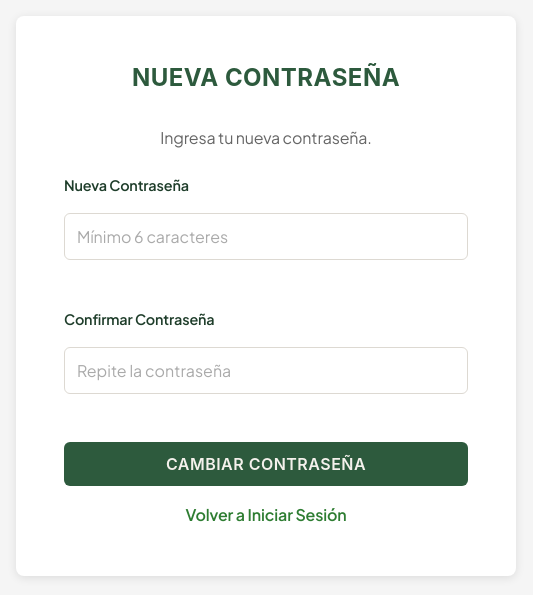
it: ResetPasswordPage › shows success state after reset
In the password field with placeholder "Mínimo 6 caracteres": (266, 237) [64,213,468,260], type "newpass123"
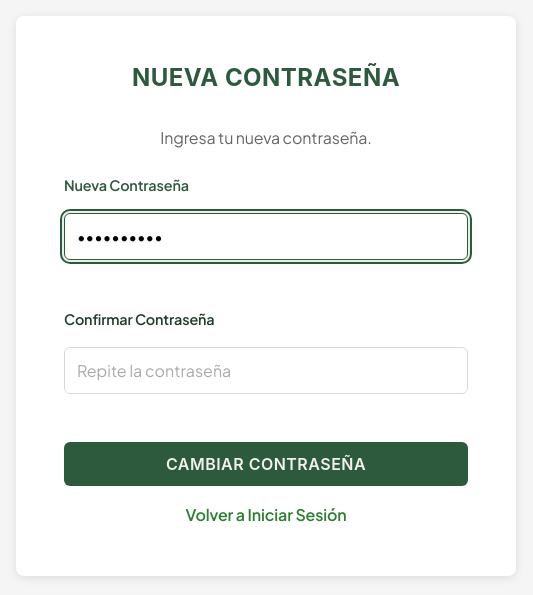
In the password field with placeholder "Repite la contraseña": (266, 371) [64,347,468,394], type "newpass123"
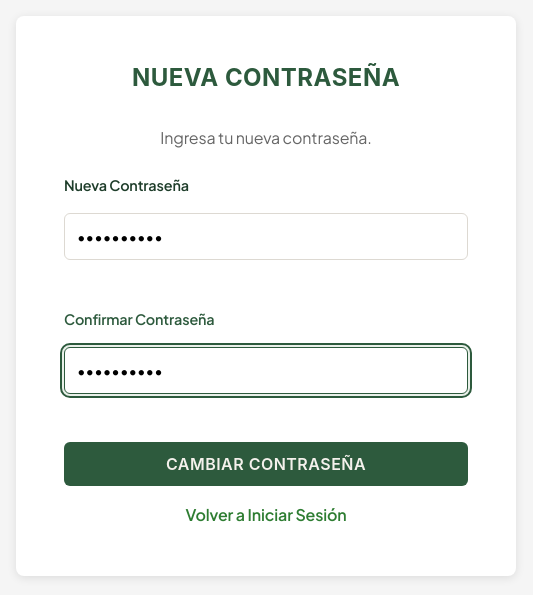
Click the button "Cambiar Contraseña": click(266, 464) [64,442,468,486]
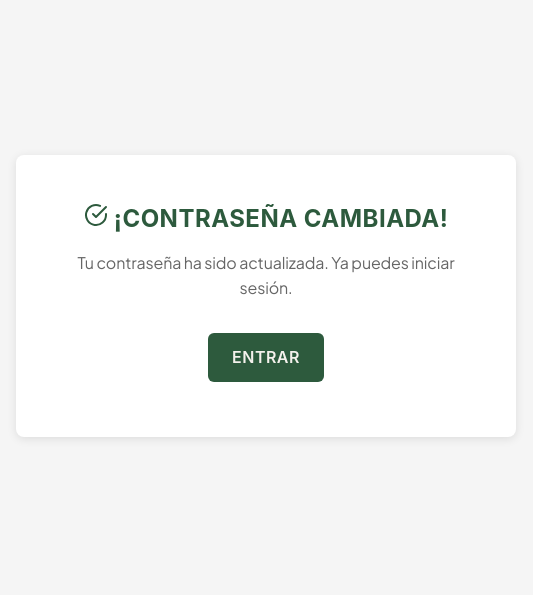
Expected: the heading "¡Contraseña Cambiada!" is shown, [64,203,468,234]
